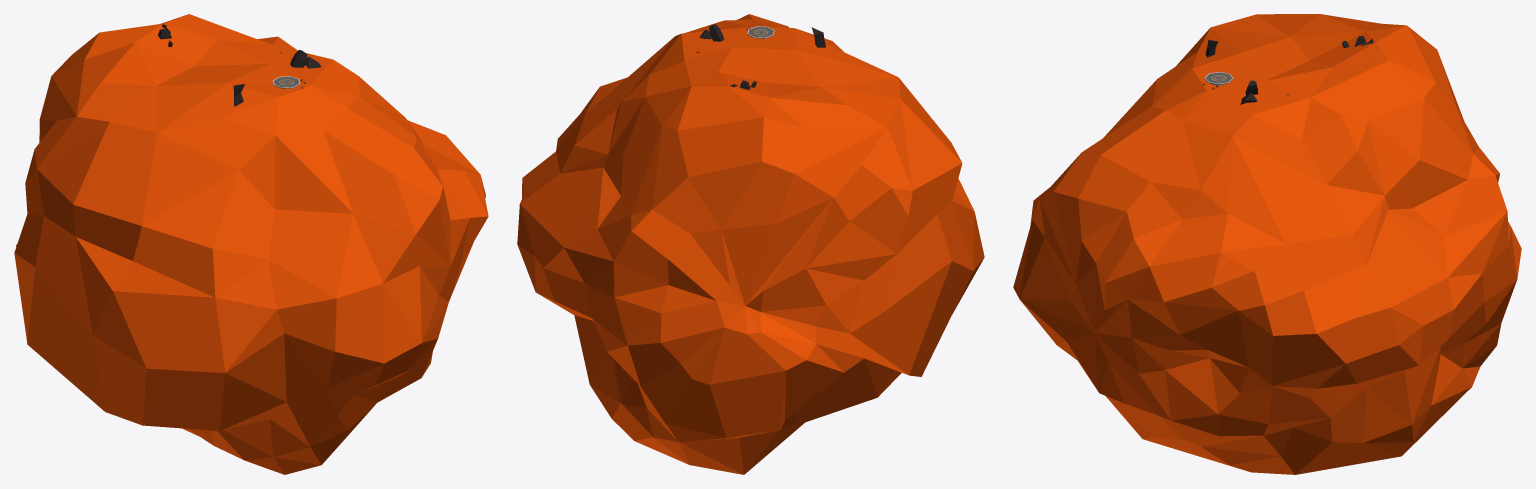
The model's file is Planet2.glb.
3 views of the same model, side by side, from view 1: azimuth 30°, elevation 25°; view 2: azimuth 150°, elevation 25°; view 3: azimuth 270°, elevation 25° (orthographic). The views are drawn at different scales.
Parts seen in each view (by area): view 1: Sphere; view 2: Sphere; view 3: Sphere.
Boxes of the visible parts, left/top/right/bottom form: Sphere: left=14, top=14, right=488, bottom=474; Sphere: left=517, top=14, right=984, bottom=474; Sphere: left=1013, top=14, right=1521, bottom=474.
Size of the model in its own units: 40.27 by 37.21 by 42.16.
